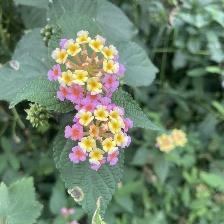common lanthana: (45, 30, 129, 106), (65, 105, 139, 171), (171, 126, 189, 150), (156, 135, 174, 155)
